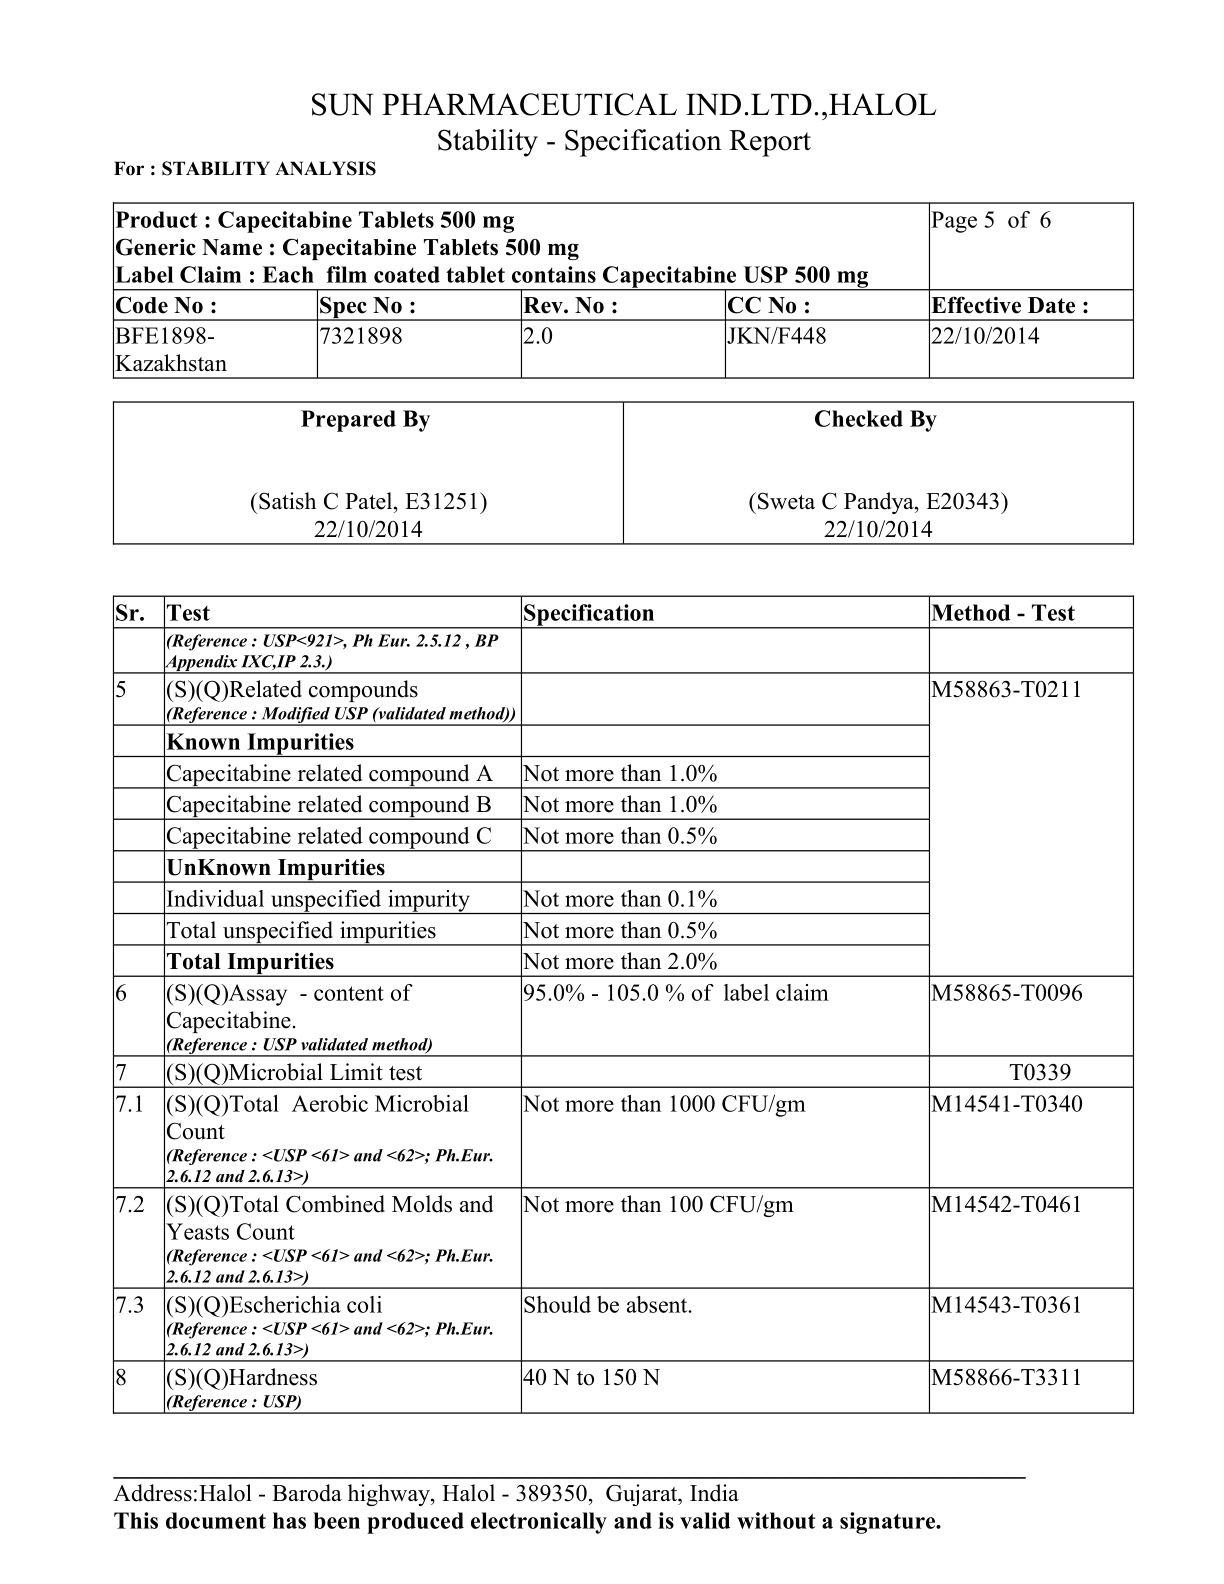full_lined: (111, 400, 1135, 546)
merged_cells: (111, 593, 1135, 1416), (112, 201, 1135, 381)
